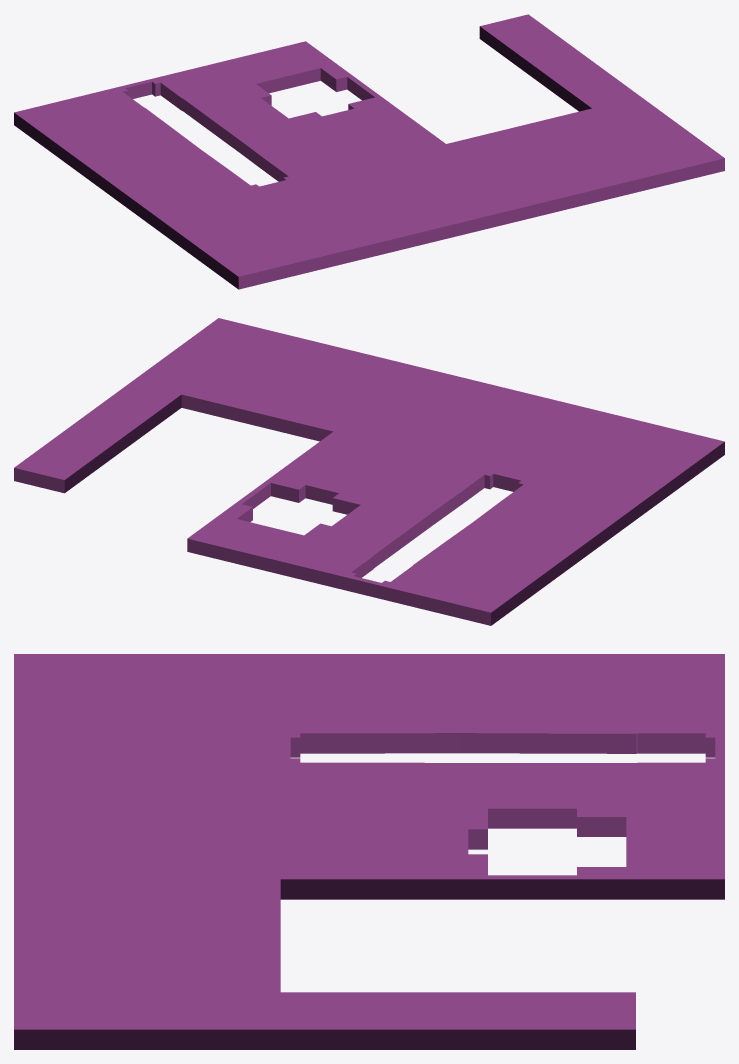
Rendered from cuboRosa_6.FBX.
The picture shows the model from 3 angles, top to bottom: view 1: azimuth 30°, elevation 25°; view 2: azimuth 150°, elevation 25°; view 3: azimuth 270°, elevation 25°; orthographic projection. The views are drawn at different scales.
Parts seen in each view (by area): view 1: Box001; view 2: Box001; view 3: Box001.
Boxes of the visible parts, x1,y1,x2,y2 form: Box001: (14, 14, 724, 289); Box001: (14, 318, 724, 625); Box001: (14, 654, 724, 1049).
Bounding box in the file's own units: 10 × 0.25 × 8.
